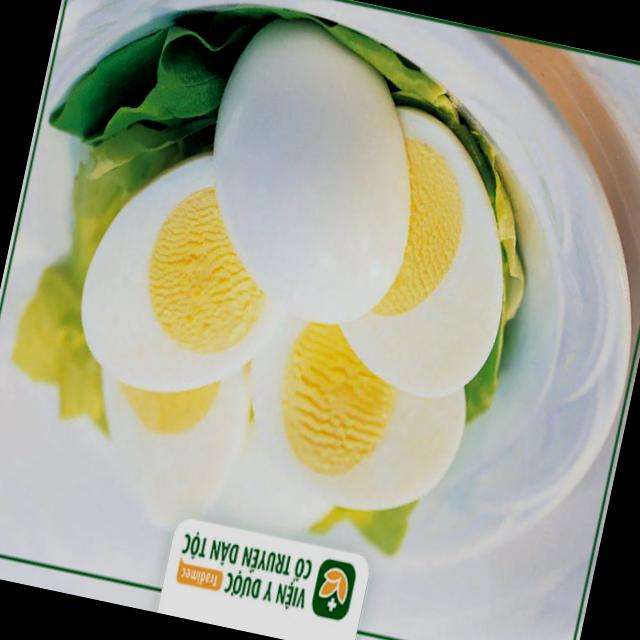trung luoc: (212, 24, 410, 322), (340, 107, 502, 396), (82, 152, 278, 390), (251, 322, 465, 510), (103, 368, 250, 526)
